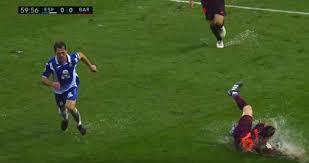Fall-Detected: (219, 73, 289, 159)
